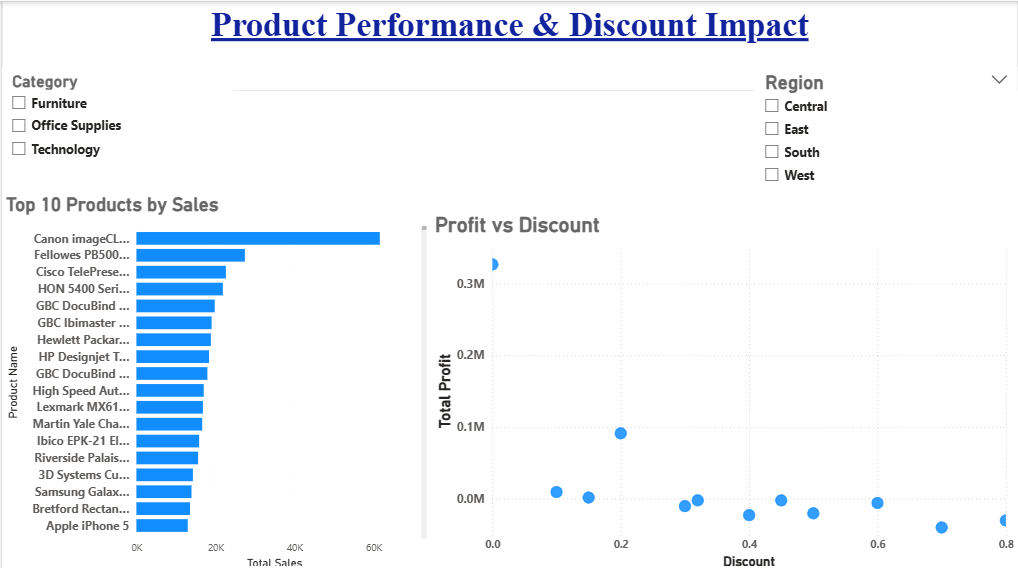

The dashboard page shown, as its layout file describes it:
{"tool":"powerbi","page":{"name":"Details","canvas":[1280,720],"ordinal":1},"visuals":[{"type":"clusteredBarChart","title":"Top 10 Products by Sales","fields":{"Category":["cleaned_superstore.Product Name"],"Y":["cleaned_superstore.Total Sales"]},"box":[0,241.9,540.5,478.1],"z":0},{"type":"scatterChart","title":"Profit vs Discount","fields":{"Y":["cleaned_superstore.Total Profit"],"X":["cleaned_superstore.Discount"]},"box":[540.5,266.5,738.9,453.5],"z":1},{"type":"textbox","box":[0,0,1279.4,113.4],"z":2},{"type":"slicer","fields":{"Values":["cleaned_superstore.Region"]},"box":[948.7,83.2,330.7,158.7],"z":4},{"type":"slicer","fields":{"Values":["cleaned_superstore.Category"]},"box":[0,83.2,291,143.6],"z":5}]}

Visuals, with their boxes in screenshot pixels (x1, y1, x2, y2), scaled from the page's 1280x720 canvas onto the 1018x568 screenshot:
"Top 10 Products by Sales" clusteredBarChart: bbox(0, 191, 430, 567)
"Profit vs Discount" scatterChart: bbox(430, 210, 1017, 567)
textbox: bbox(0, 0, 1017, 89)
slicer - cleaned_superstore.Region: bbox(755, 66, 1017, 191)
slicer - cleaned_superstore.Category: bbox(0, 66, 231, 179)
